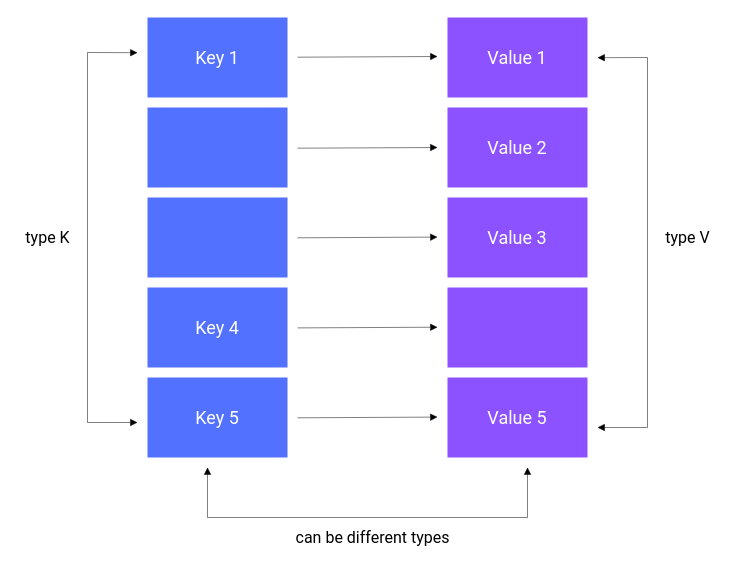
Some shapes in this 734 by 564 pixel diagram are drawn without their labels. Each missing label, with the centre of its shape:
"Key 2" goes at point (217, 147).
"Key 3" goes at point (217, 237).
"Value 4" goes at point (517, 327).
